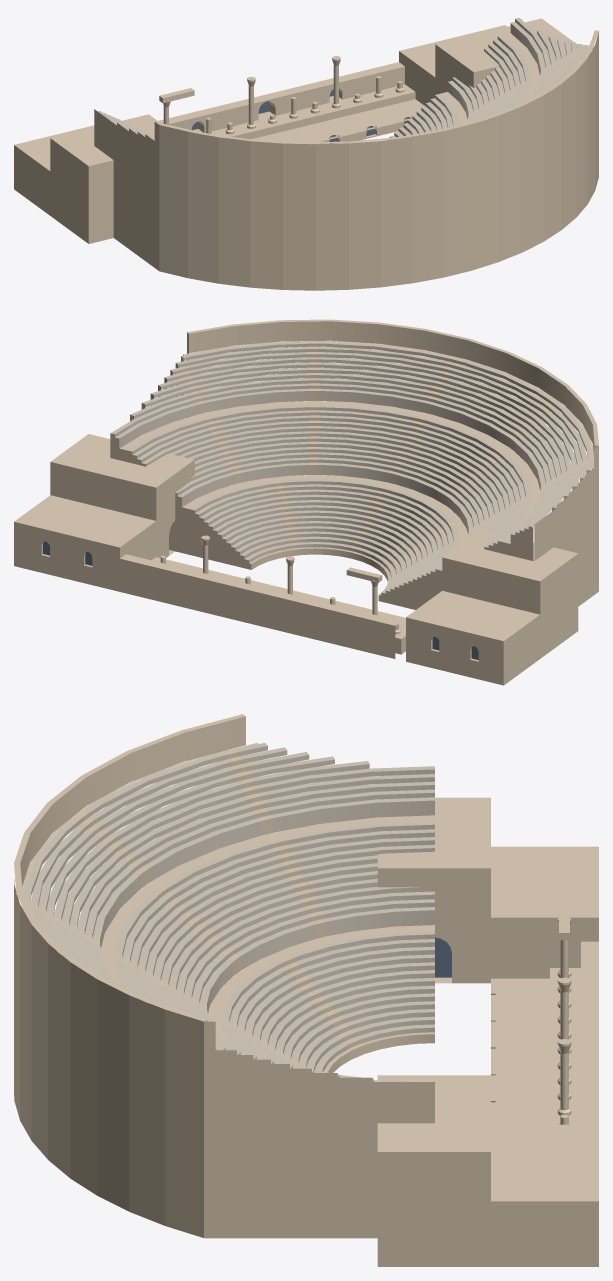
Rendered from amman-roman-theatre.glb.
The picture shows the model from 3 angles, top to bottom: view 1: azimuth 30°, elevation 25°; view 2: azimuth 150°, elevation 25°; view 3: azimuth 270°, elevation 25°; orthographic projection. The views are drawn at different scales.
Visible parts, largest first — view 1: Roman Theatre, Amman; view 2: Roman Theatre, Amman; view 3: Roman Theatre, Amman.
Boxes of the visible parts, box(x1,y1,x2,y2) form: Roman Theatre, Amman: box(14, 17, 598, 290); Roman Theatre, Amman: box(14, 319, 598, 685); Roman Theatre, Amman: box(14, 714, 598, 1266).
Size of the model in its own units: 92.5 by 26.35 by 64.53.
